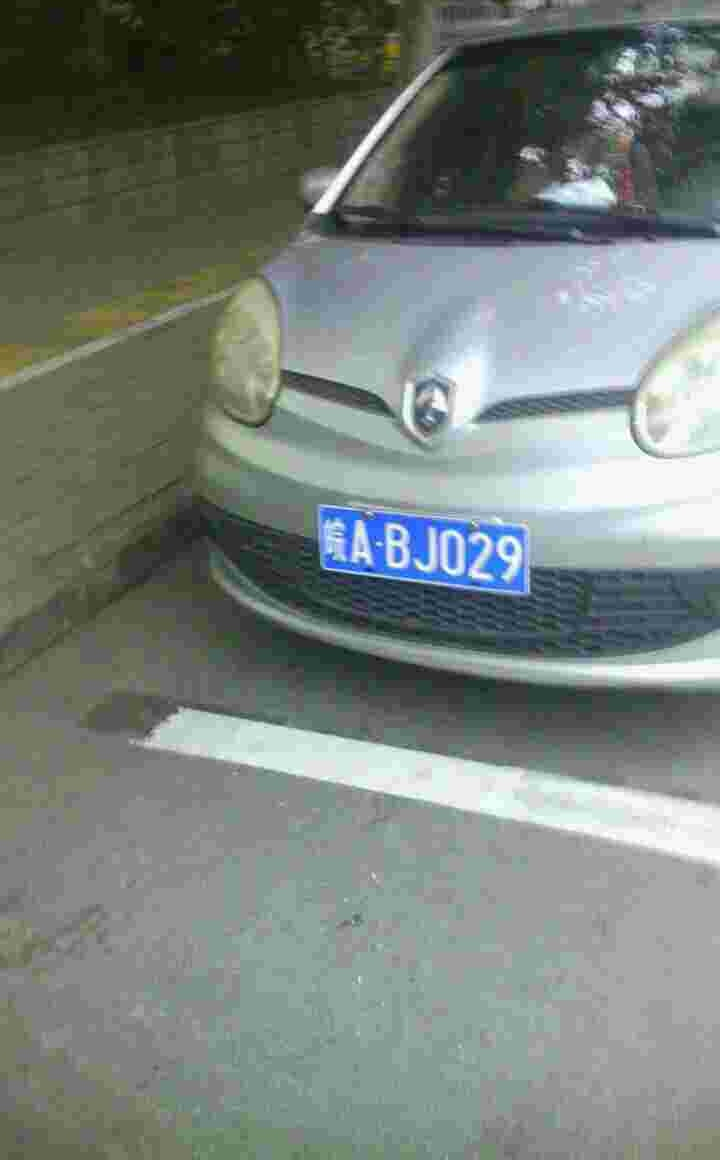license_plate: (317, 506, 535, 601)
